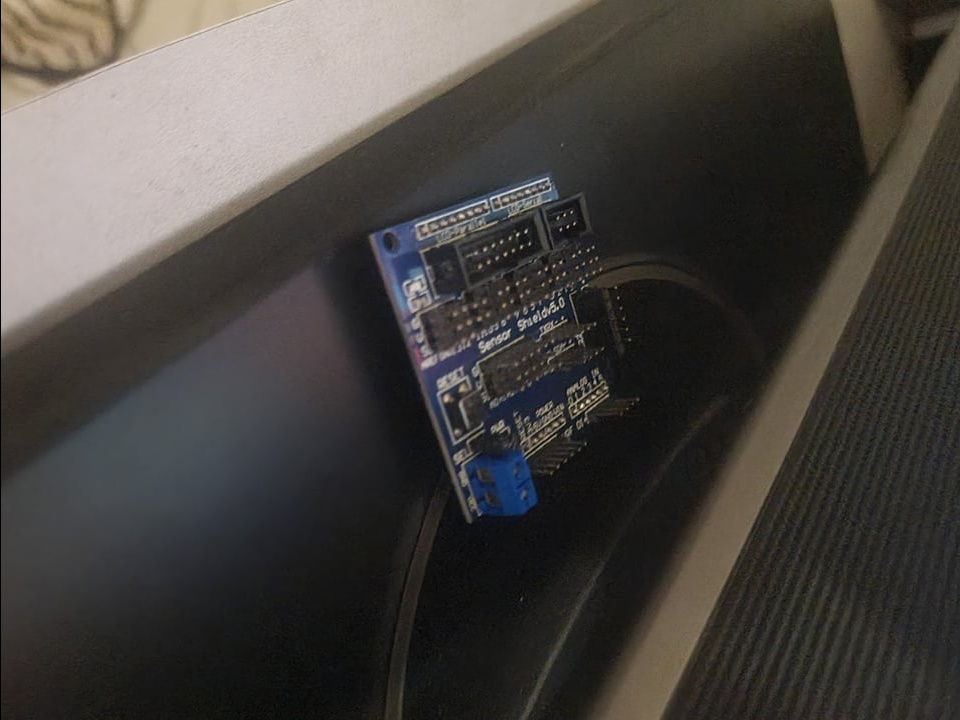5V EXPANSION: (362, 174, 645, 529)
